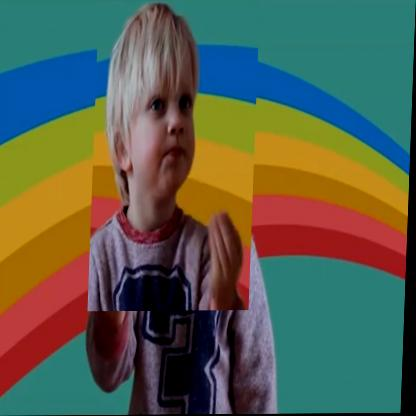Food: (90, 0, 260, 311)
